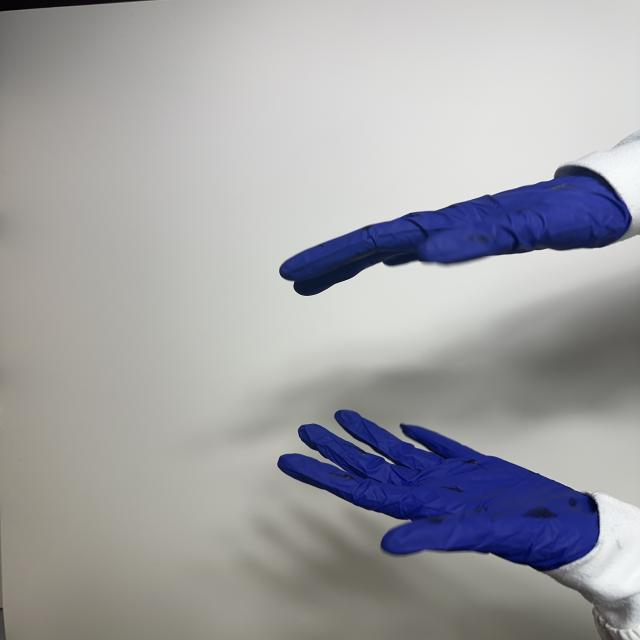gloves_contaminated: (271, 402, 608, 578), (276, 170, 639, 298)
